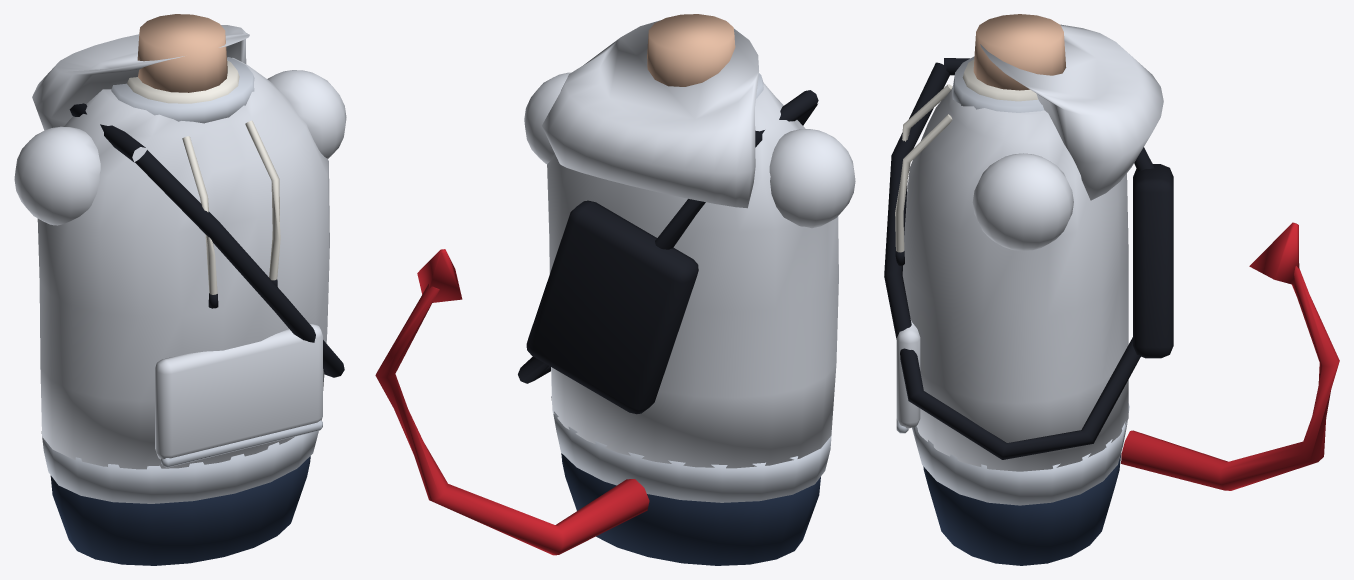
File: coder_torso_devil.glb
The picture shows the model from 3 angles, left to right: view 1: azimuth 30°, elevation 25°; view 2: azimuth 150°, elevation 25°; view 3: azimuth 270°, elevation 25°; orthographic projection.
Visible parts, largest first — view 1: CoderPart; view 2: CoderPart; view 3: CoderPart.
Boxes of the visible parts, bbox=[...] form: CoderPart: bbox=[14, 14, 346, 565]; CoderPart: bbox=[375, 14, 855, 565]; CoderPart: bbox=[884, 14, 1339, 565].
Bounding box in the file's own units: 0.428 × 0.633 × 0.5399.
